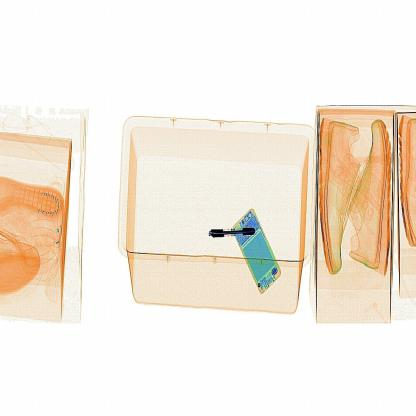knife: (208, 225, 258, 243)
